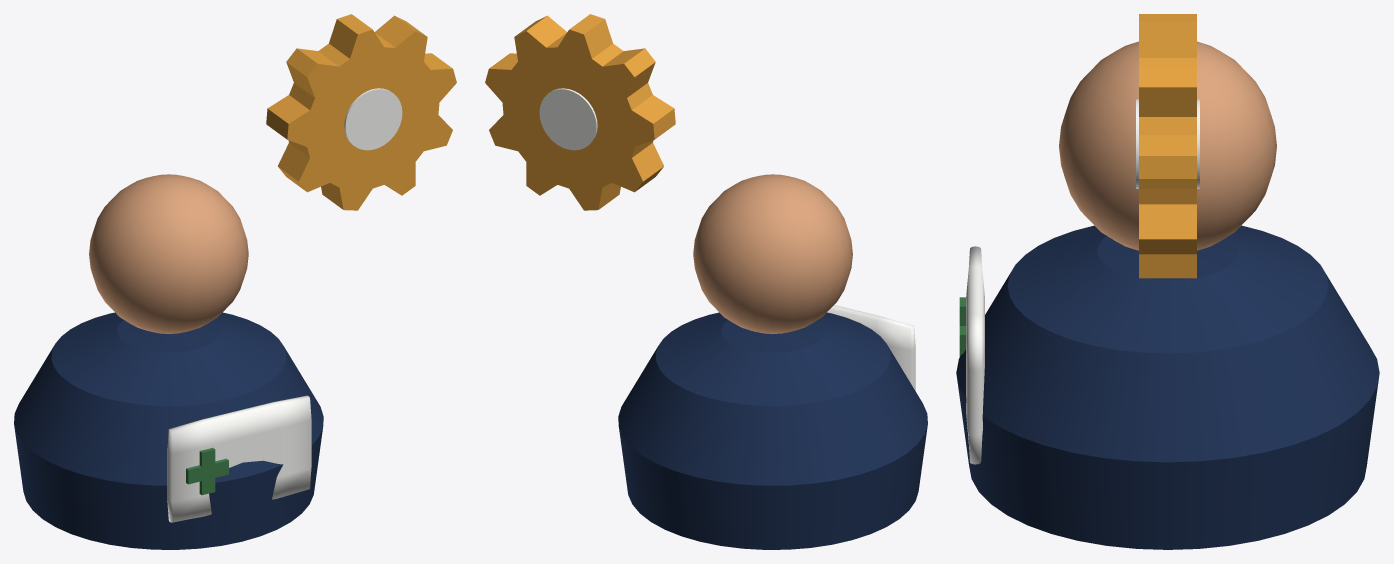
The model's file is account.glb.
3 renders of one model, left to right at view 1: azimuth 30°, elevation 25°; view 2: azimuth 150°, elevation 25°; view 3: azimuth 270°, elevation 25°, orthographic. The views are drawn at different scales.
Parts seen in each view (by area): view 1: account; view 2: account; view 3: account.
Boxes of the visible parts, left/top/right/bottom form: account: left=14, top=14, right=456, bottom=549; account: left=485, top=14, right=927, bottom=549; account: left=956, top=14, right=1379, bottom=549.
Size of the model in its own units: 2.02 by 1.97 by 1.32.
